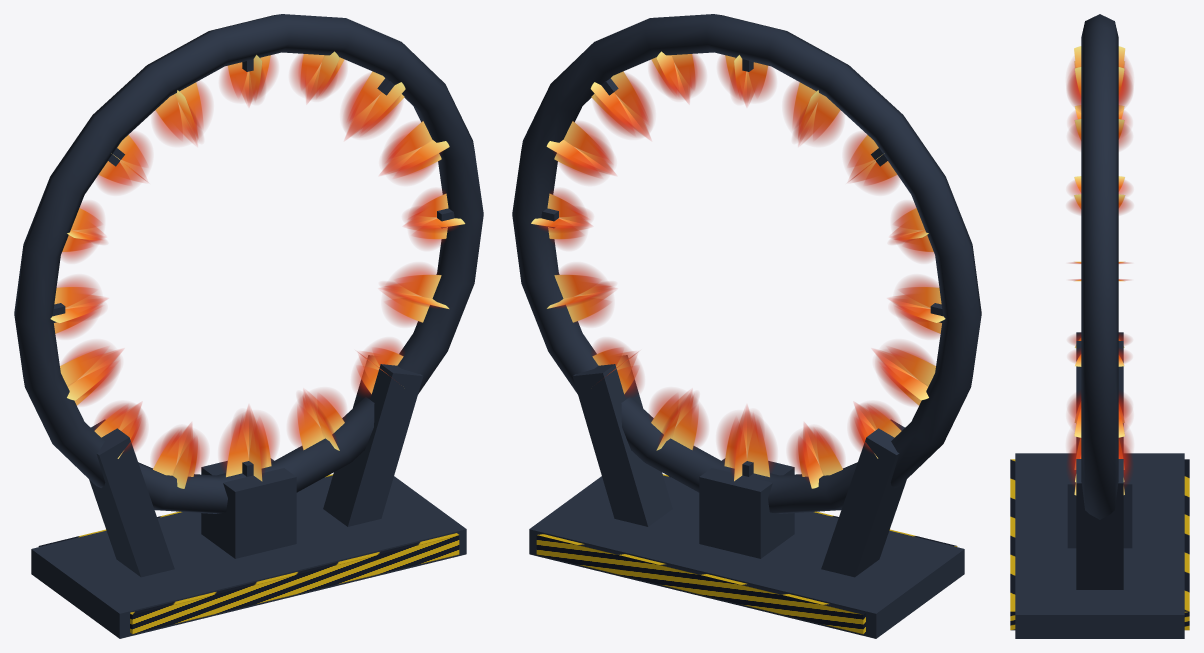
File: fire_ring.glb
3 renders of one model, left to right at view 1: azimuth 30°, elevation 25°; view 2: azimuth 150°, elevation 25°; view 3: azimuth 270°, elevation 25°, orthographic. The views are drawn at different scales.
Visible parts, largest first — view 1: fire_ring, fire_meshes; view 2: fire_ring, fire_meshes; view 3: fire_ring, fire_meshes.
Part boxes in pixels (left/top/right/bottom): fire_ring: left=14, top=14, right=483, bottom=638; fire_meshes: left=50, top=51, right=465, bottom=488; fire_ring: left=512, top=14, right=981, bottom=638; fire_meshes: left=531, top=51, right=945, bottom=488; fire_ring: left=1010, top=14, right=1189, bottom=638; fire_meshes: left=1067, top=46, right=1132, bottom=495.
Size of the model in its own units: 3.5 by 3.88 by 1.22.
Materials: 3 (2 with a texture image).
